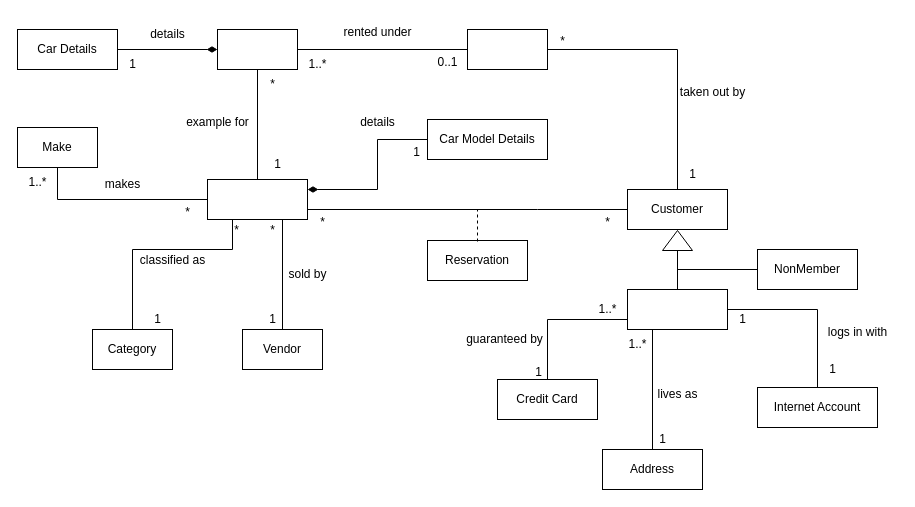
This 915x507 diagram has some shape labels left out. The shapes that lost their labels are listed below. From the top down, each one's box as (x1, y1, x2, y2) in pixels, then its label:
(216, 28, 298, 70): Car
(466, 28, 548, 70): Rental
(206, 178, 308, 220): Car Model
(626, 288, 728, 330): Member
